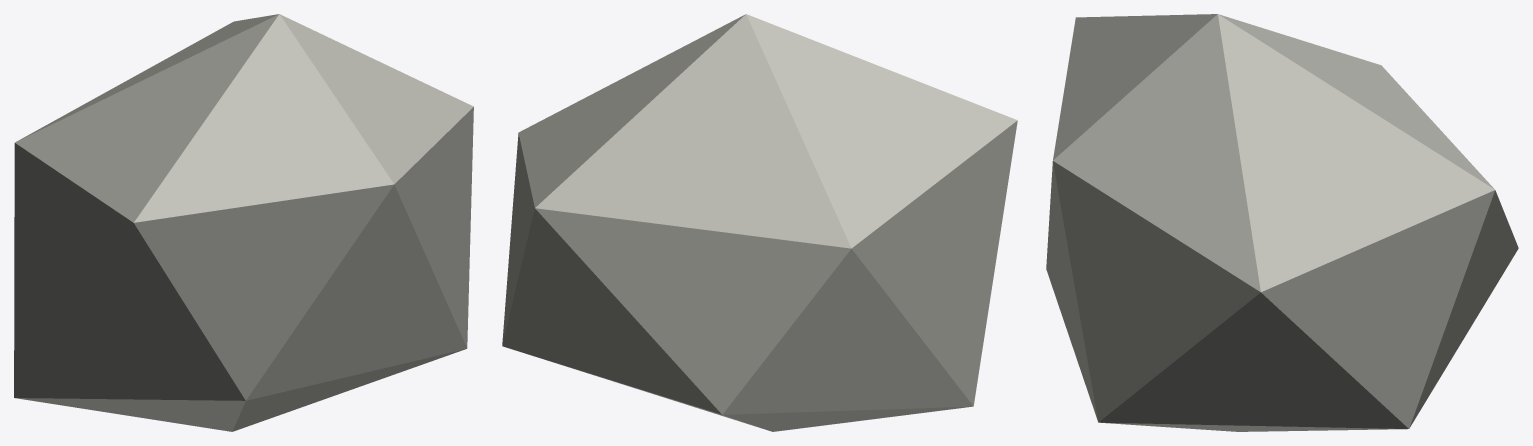
The model's file is Boulder.fbx.
3 views of the same model, side by side, from view 1: azimuth 30°, elevation 25°; view 2: azimuth 150°, elevation 25°; view 3: azimuth 270°, elevation 25° (orthographic). The views are drawn at different scales.
Parts seen in each view (by area): view 1: Boulder; view 2: Boulder; view 3: Boulder.
Boxes of the visible parts, <box> form: Boulder: <box>14,14,473,431</box>; Boulder: <box>502,14,1017,431</box>; Boulder: <box>1046,14,1518,431</box>.
Bounding box in the file's own units: 6.46 × 5.52 × 5.41.
Materials: 1 (1 with a texture image).
